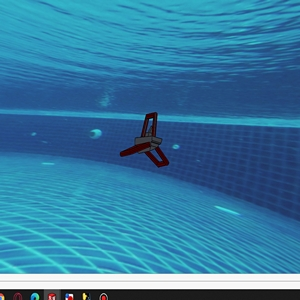submarine: (118, 108, 174, 172)
